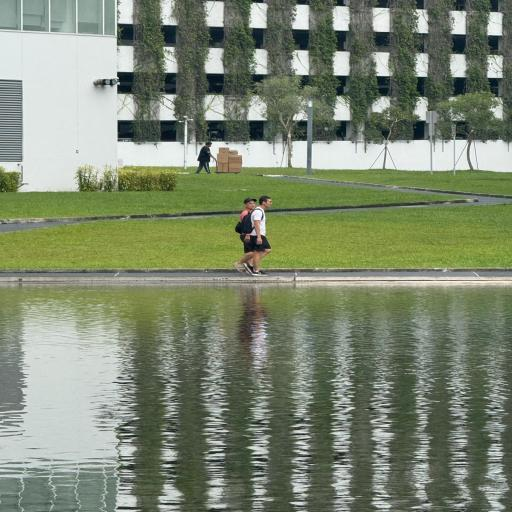person_right: (242, 195, 273, 276), (232, 198, 258, 274)
